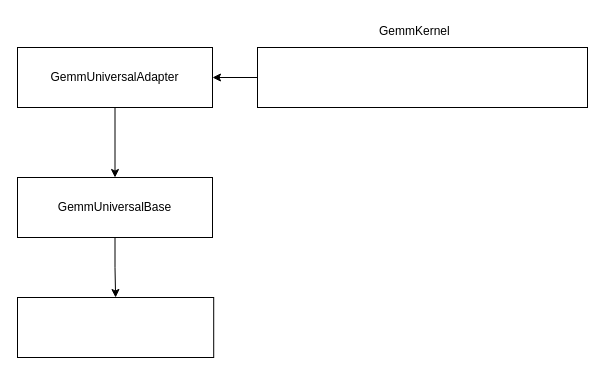
This 605x375 diagram has some shape labels left out. Each missing label, with the centre of its shape:
"cutlass_tensorop_d884gemm_32x32_16x3_nn_align1" belongs at pixel 422 77.
"GemmUniversal::operator()" belongs at pixel 115 327.
